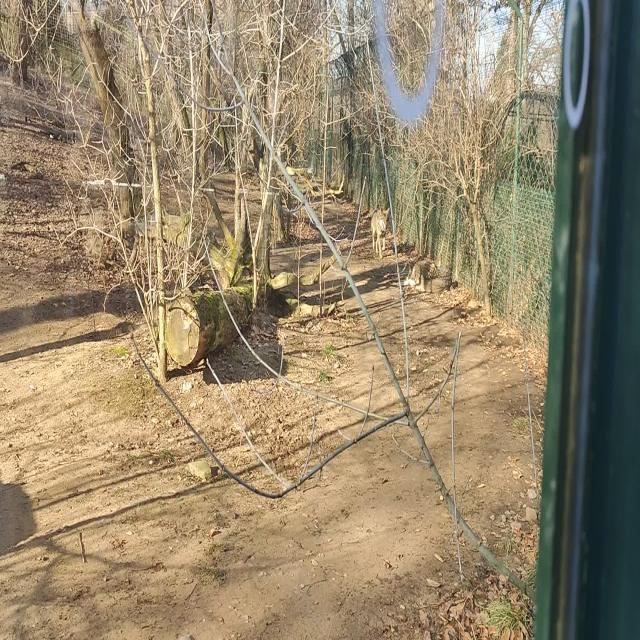dog: (371, 205, 390, 259)
